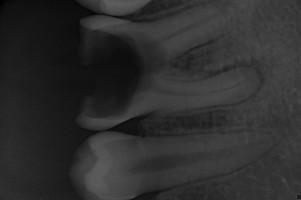Furcation Involvement: (212, 56, 266, 104)
